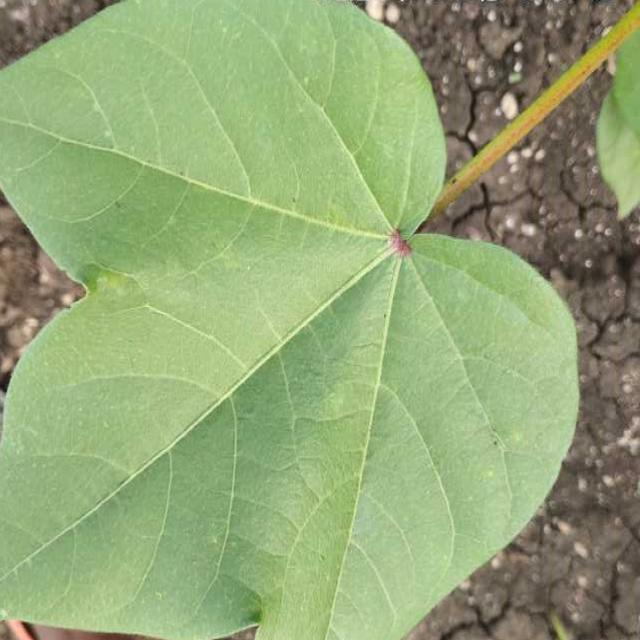Healthy Leaf: (2, 4, 638, 640)
